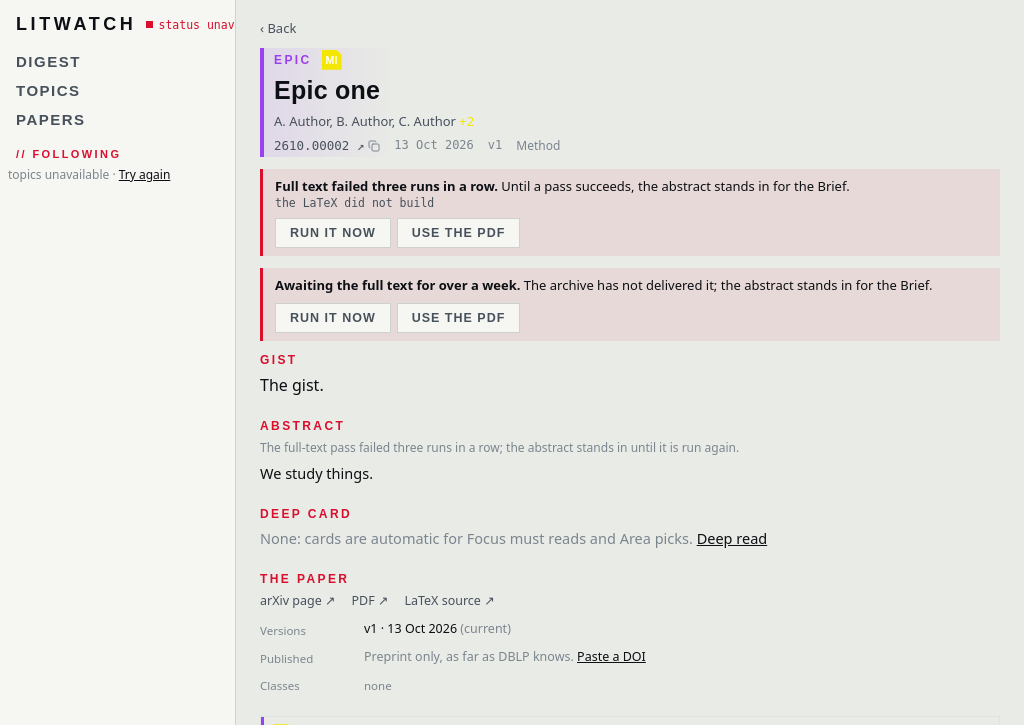
Test: a paper's page › runs a stuck full-text pass now from its note, and says so when the page is behind
Check: the heading "Epic one" is shown, box [274, 76, 380, 104]
Check: the text "Full text failed three runs in a row." is shown, box [275, 177, 498, 195]
What coordinates should you click on to do the following:
click the button "Run it now" below "the LaTeX did not build"
I would click on:
 (333, 233)
Its box is [275, 218, 391, 248].
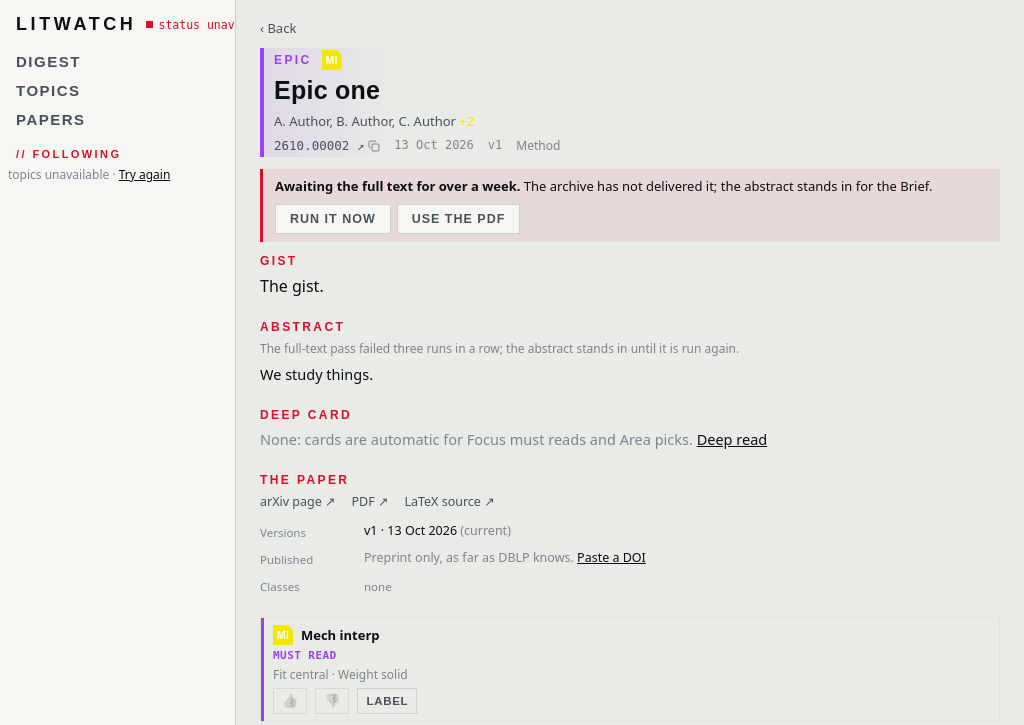
Check: the text "Full text failed three runs in a row" is gone
What coordinates should you click on to do the following:
click the button "Run it now"
I would click on:
 (333, 219)
Its box is [275, 204, 391, 234].
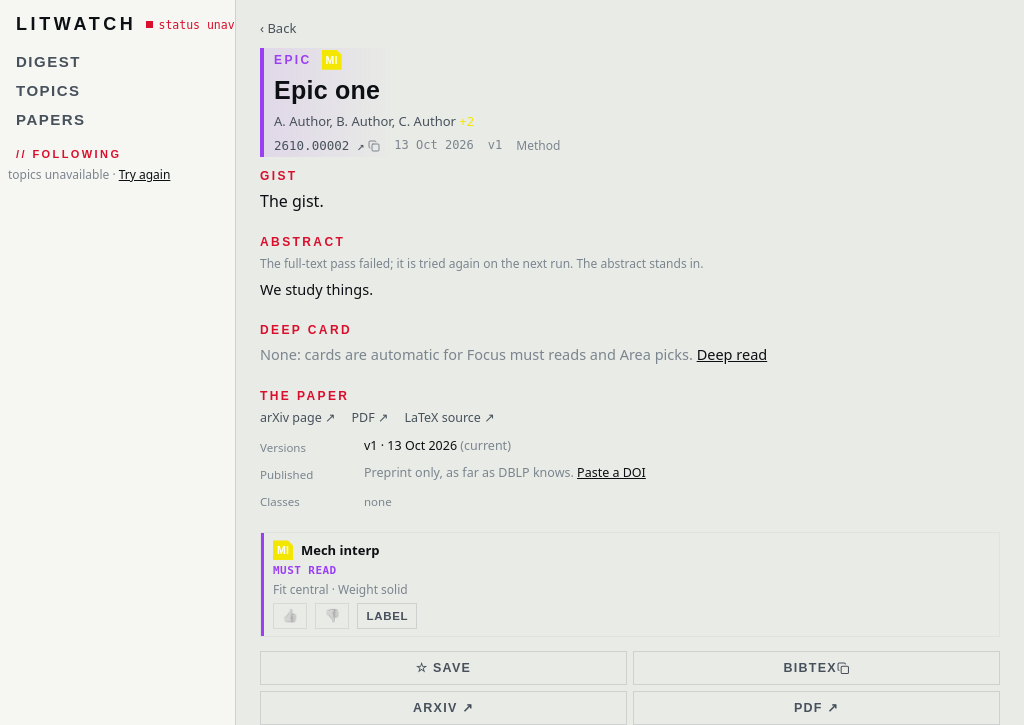
Check: the text "Awaiting the full text for over a week" is gone
